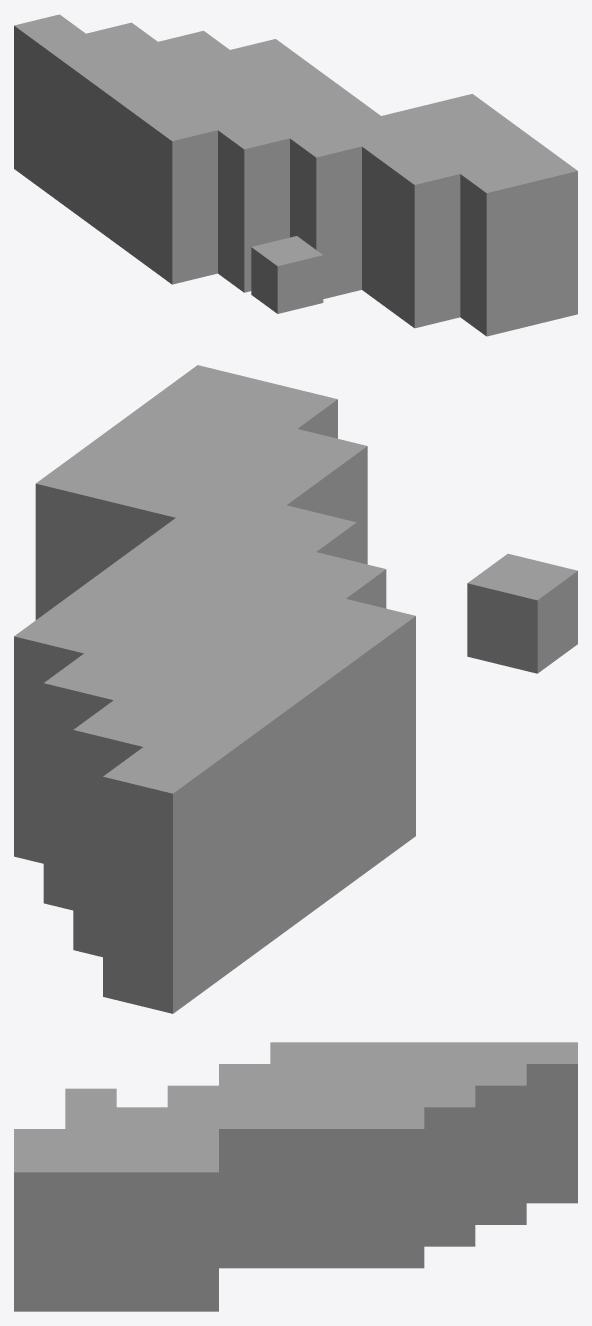
File: NavePart2.obj
The picture shows the model from 3 angles, top to bottom: view 1: azimuth 30°, elevation 25°; view 2: azimuth 150°, elevation 25°; view 3: azimuth 270°, elevation 25°; orthographic projection. The views are drawn at different scales.
Bounding box in the file's own units: 0.6 × 0.3 × 1.1.
1 material, 1 textured.
